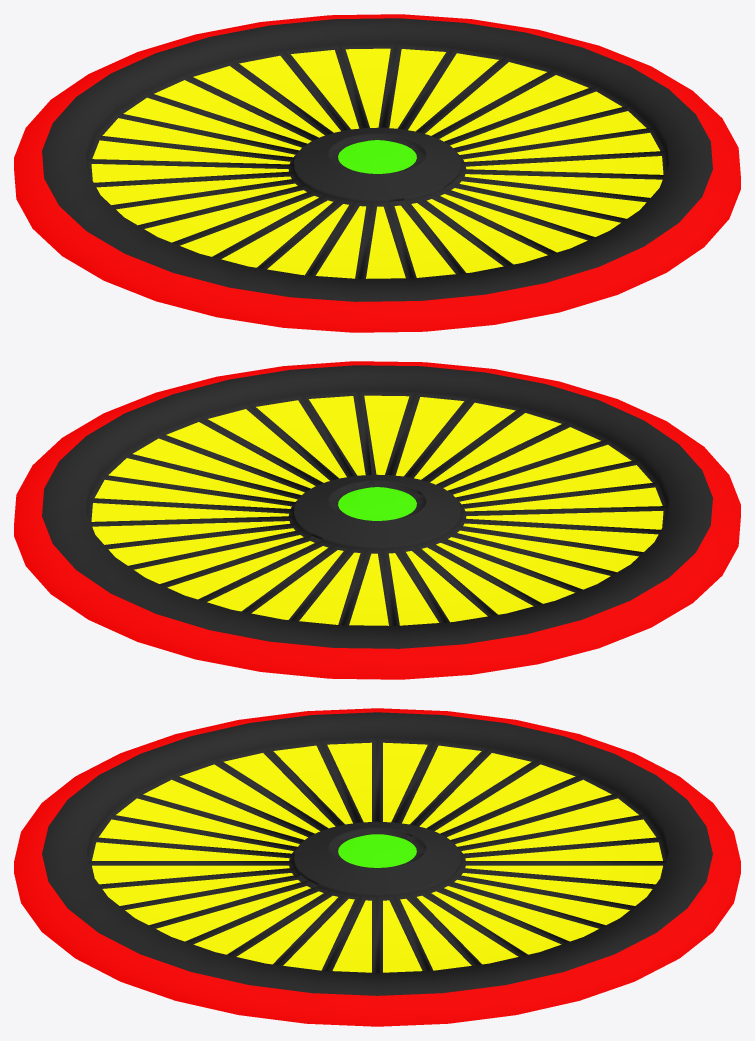
Rendered from finish-zone.gltf.
3 views of the same model, one above another, from view 1: azimuth 30°, elevation 25°; view 2: azimuth 150°, elevation 25°; view 3: azimuth 270°, elevation 25° (orthographic).
Visible parts, largest first — view 1: FinishCircle; view 2: FinishCircle; view 3: FinishCircle.
Part boxes in pixels (x1,y1,x2,y2): FinishCircle: (14,14,740,332); FinishCircle: (14,361,740,679); FinishCircle: (14,708,740,1026).
Size of what is drawn, in the model's own units: 16.09 by 0.7206 by 16.09.
